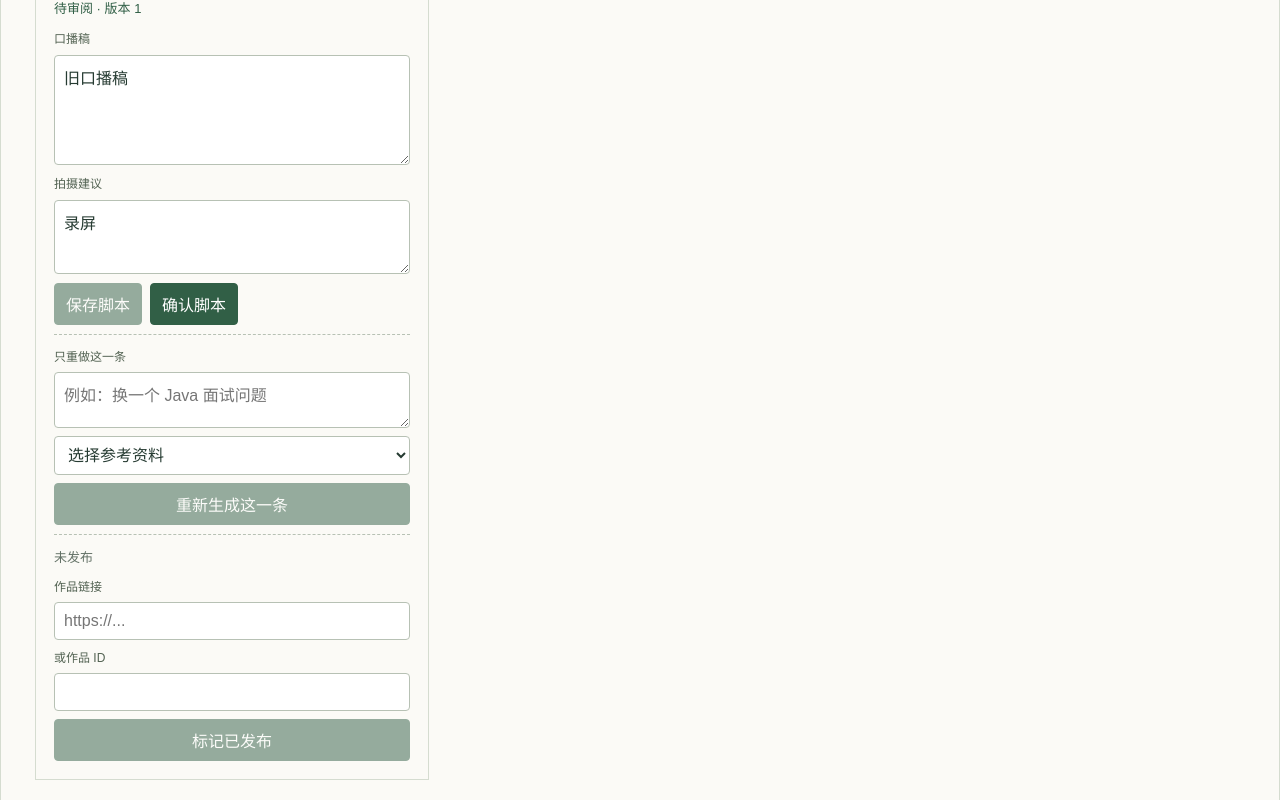
Scenario: weekly schedule page › regenerates only the selected item with its current version and one source
The image size is (1280, 800).
(page scrolled)
Type "换一道 Java 面试题" into the text box labelled "只重做这一条" at (232, 400), box [54,372,410,428]
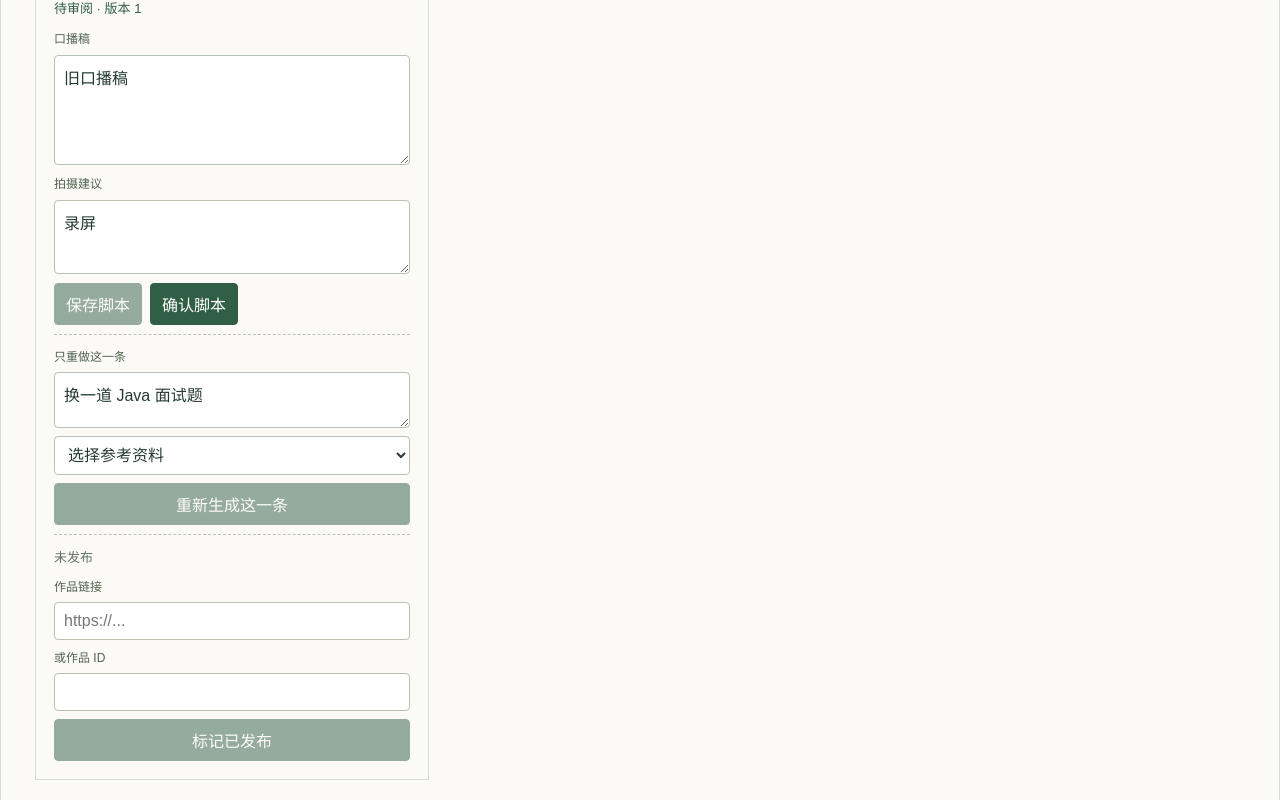
Select "Java 资料" in the dropdown named "第 1 条参考资料" at (232, 456), box [54,436,410,475]
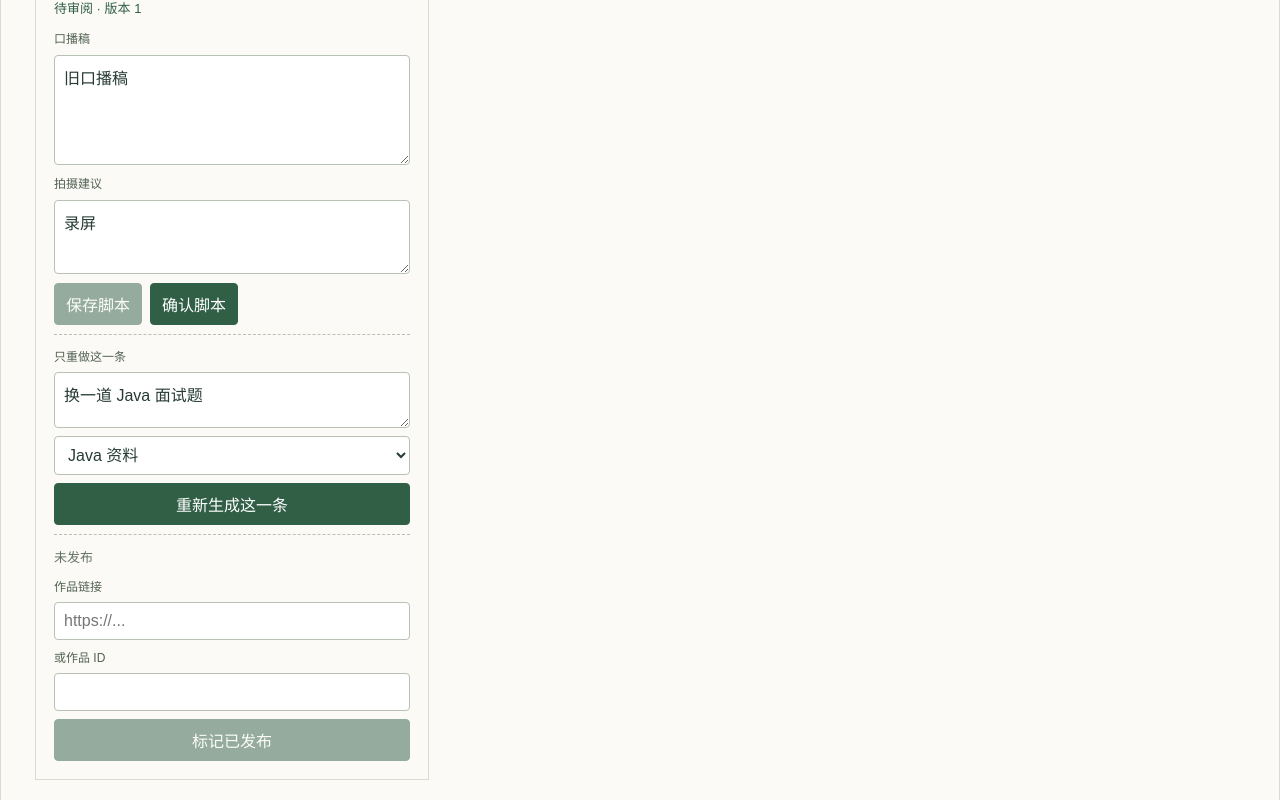
Click the button "重新生成这一条" at (232, 504), box [54,483,410,525]
(page scrolled)
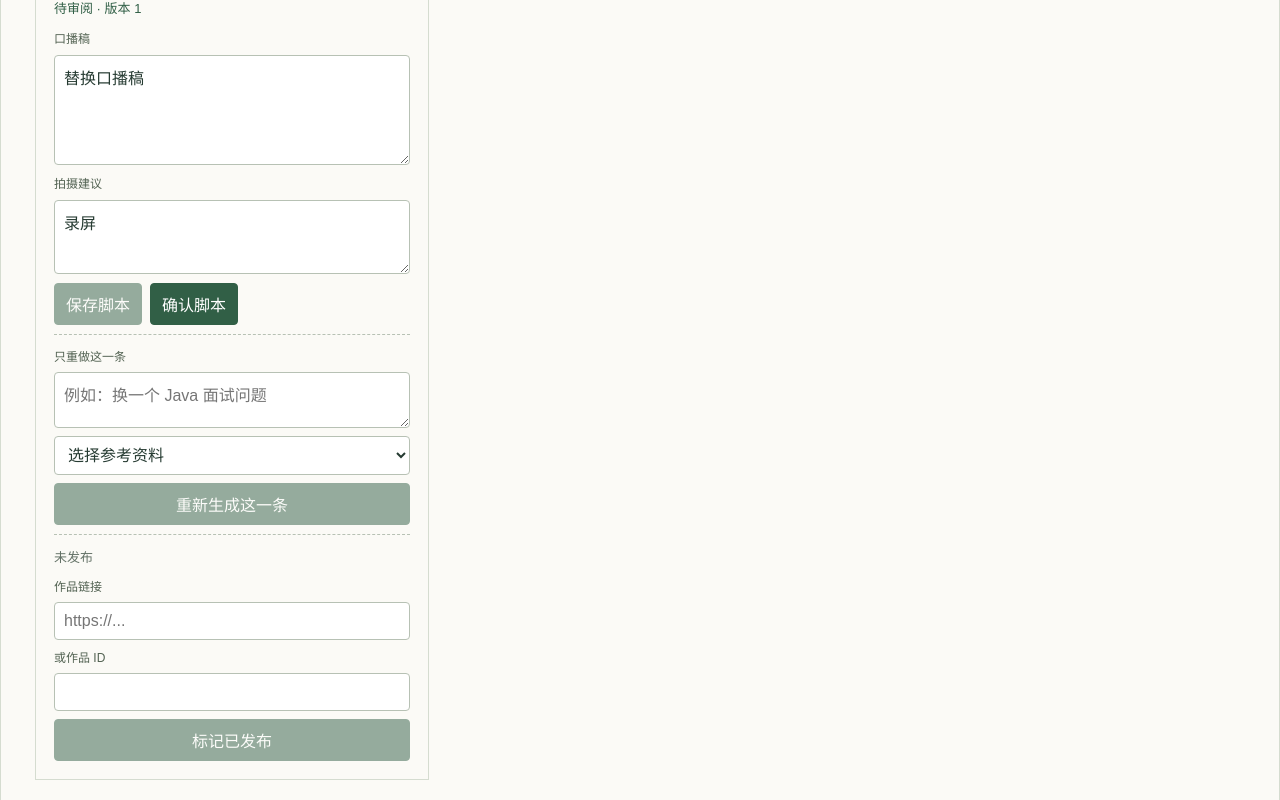
Expected: the text box labelled "口播稿" holds "替换口播稿", [54,55,410,165]
